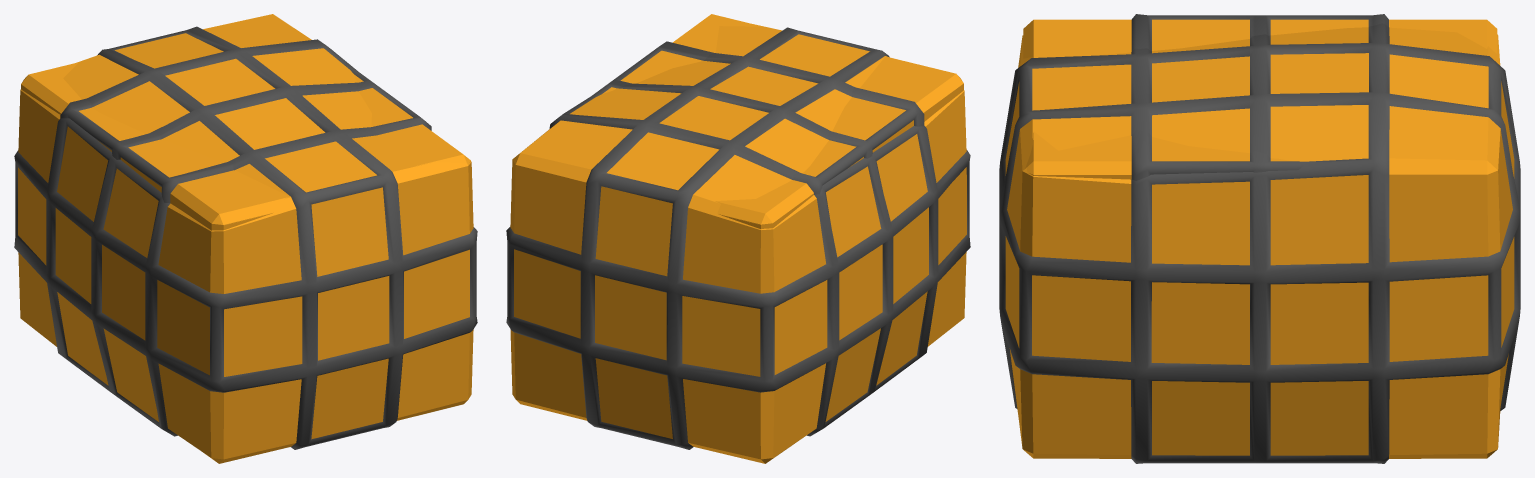
Rendered from StrawBlocks.fbx.
3 views of the same model, side by side, from view 1: azimuth 30°, elevation 25°; view 2: azimuth 150°, elevation 25°; view 3: azimuth 270°, elevation 25° (orthographic). The views are drawn at different scales.
Parts seen in each view (by area): view 1: Straw1, Straw3; view 2: Straw1, Straw3; view 3: Straw1, Straw3.
Boxes of the visible parts, left/top/right/bottom form: Straw1: left=14, top=14, right=477, bottom=463; Straw3: left=21, top=62, right=470, bottom=230; Straw1: left=506, top=24, right=970, bottom=463; Straw3: left=584, top=14, right=963, bottom=228; Straw1: left=999, top=23, right=1520, bottom=463; Straw3: left=1023, top=14, right=1497, bottom=180.
Bounding box in the file's own units: 159 × 135 × 198.
